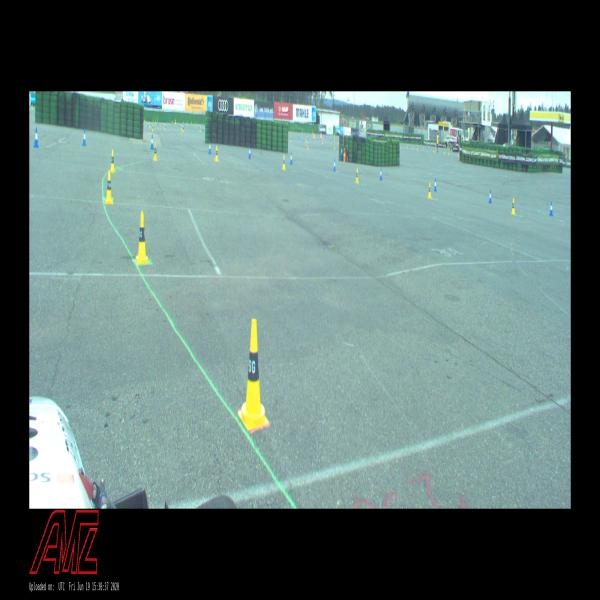blue_cone: (82, 129, 87, 146), (34, 128, 38, 147), (549, 201, 553, 216), (488, 190, 491, 203), (248, 146, 251, 159), (151, 136, 154, 149), (434, 179, 437, 191), (333, 159, 336, 171), (209, 141, 211, 154), (380, 167, 382, 180), (290, 152, 292, 164)
yellow_cone: (238, 320, 269, 430), (136, 212, 149, 262), (104, 171, 114, 203), (110, 150, 116, 173), (153, 144, 158, 160), (512, 198, 516, 214), (428, 184, 432, 199), (215, 146, 218, 161), (282, 155, 285, 169), (356, 168, 358, 184)
